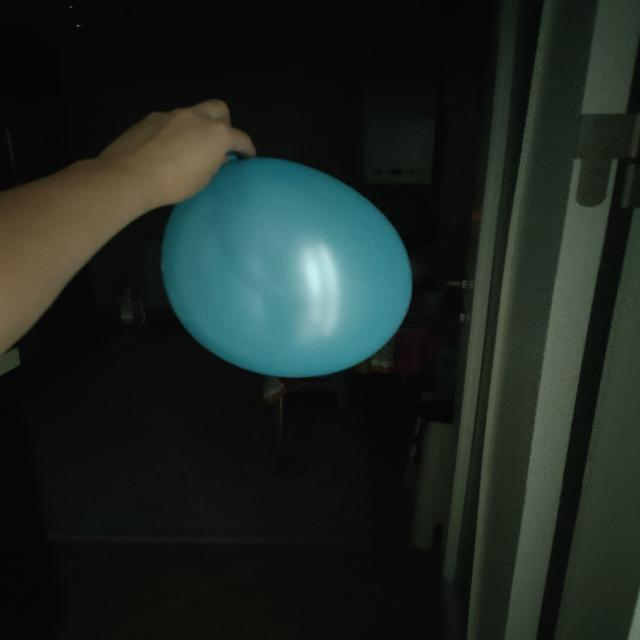blue: (163, 159, 414, 380)
